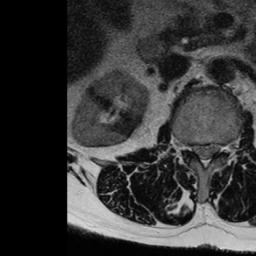CCS_normal: (200, 136, 209, 175)
LFS_stenosis: (219, 134, 228, 162)
LLS_normal: (209, 136, 218, 162)
RFS_stenosis: (182, 132, 191, 159)
RLS_normal: (191, 136, 200, 162)
